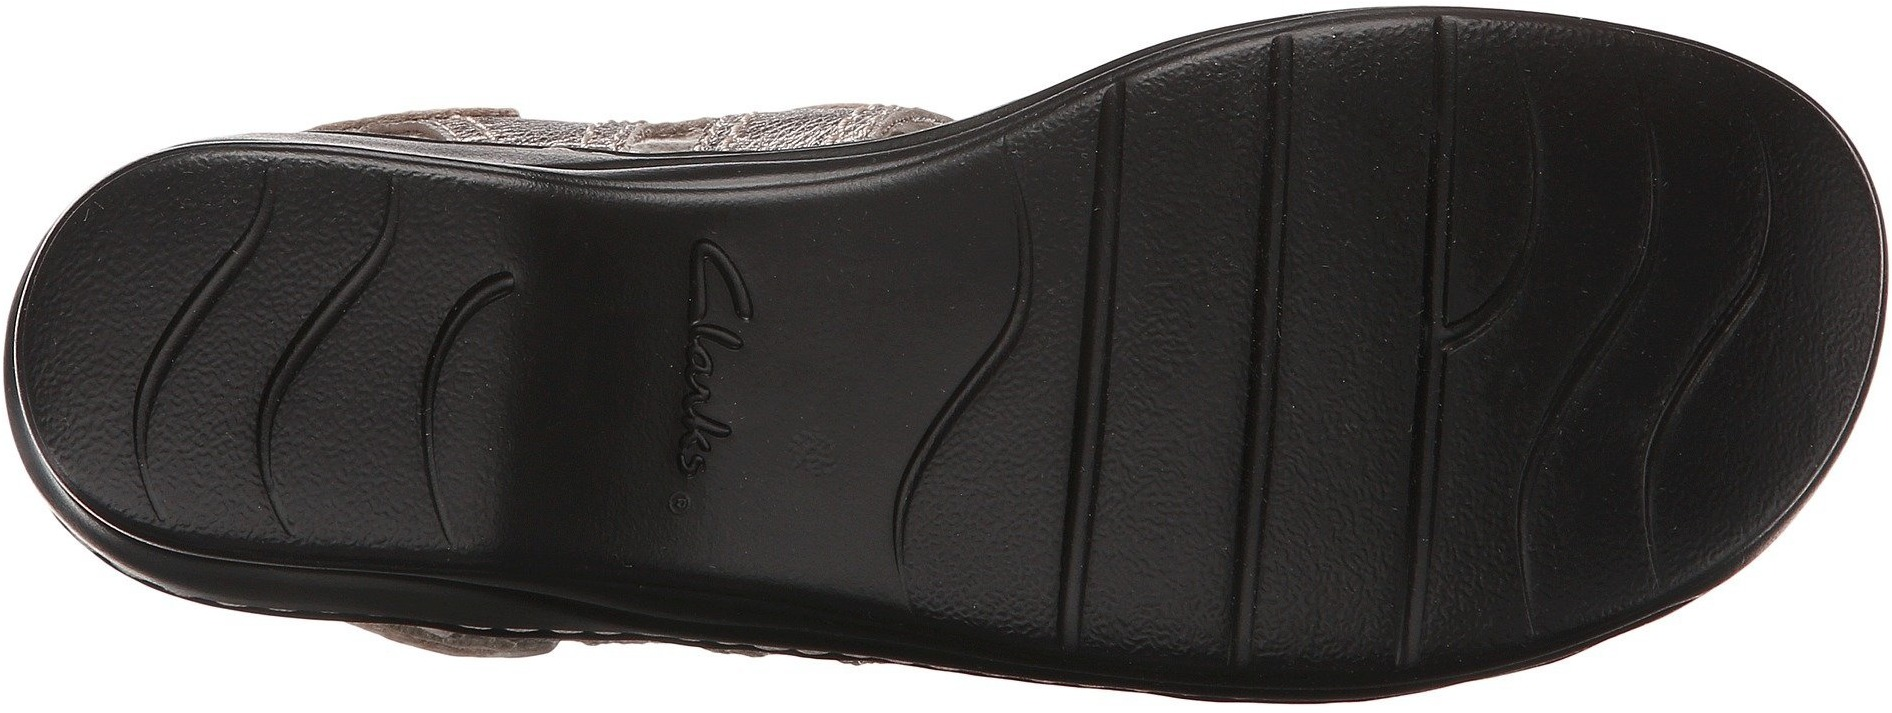exclude: (495, 189, 884, 604), (494, 183, 646, 573)
line: (136, 179, 510, 548), (1446, 106, 1799, 437), (1084, 318, 1440, 639), (1435, 240, 1763, 528), (1094, 99, 1456, 314)
other: (779, 208, 960, 380), (919, 471, 1067, 606)
text: (668, 325, 752, 402), (668, 398, 748, 477)
